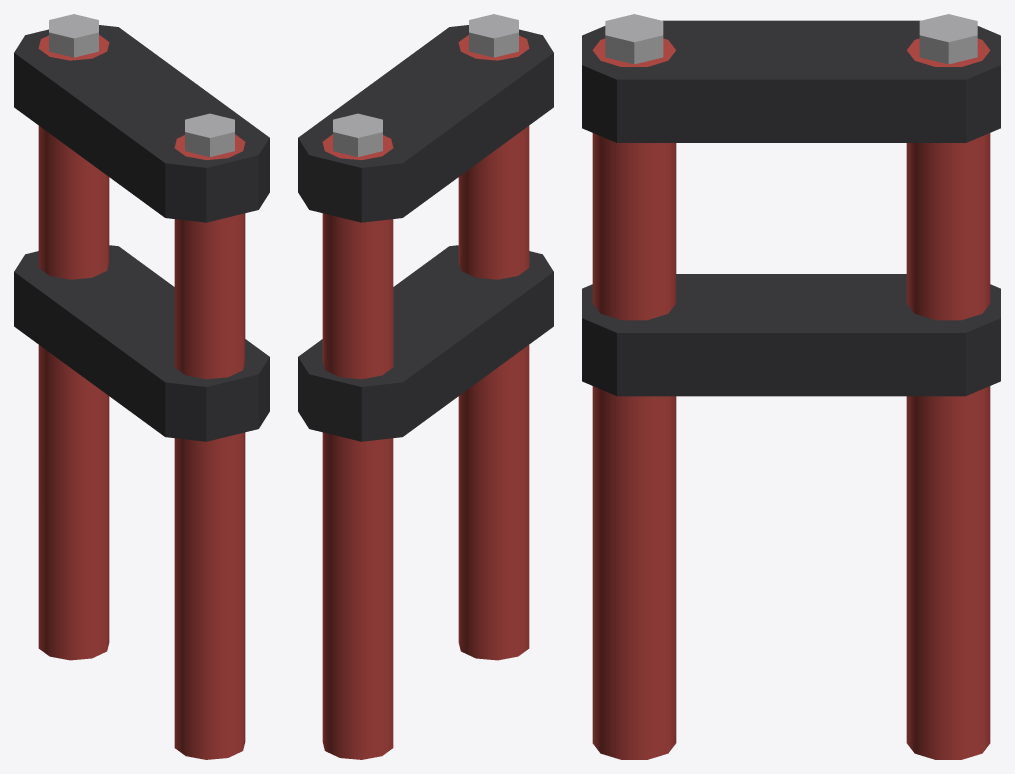
The model's file is classic_conventional_upper_lod1.glb.
3 renders of one model, left to right at view 1: azimuth 30°, elevation 25°; view 2: azimuth 150°, elevation 25°; view 3: azimuth 270°, elevation 25°, orthographic. The views are drawn at different scales.
Parts seen in each view (by area): view 1: classic_conventional_upper_lod1; view 2: classic_conventional_upper_lod1; view 3: classic_conventional_upper_lod1.
Part boxes in pixels (box(x1,y1,x2,y2)): classic_conventional_upper_lod1: box(14, 14, 269, 759); classic_conventional_upper_lod1: box(298, 14, 553, 759); classic_conventional_upper_lod1: box(582, 14, 1000, 759).
Bounding box in the file's own units: 0.08 × 0.452 × 0.24.
